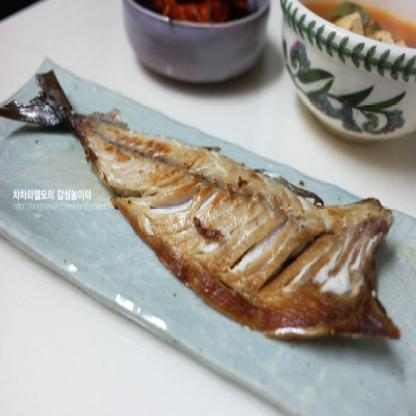Peixe: (0, 69, 400, 342)
